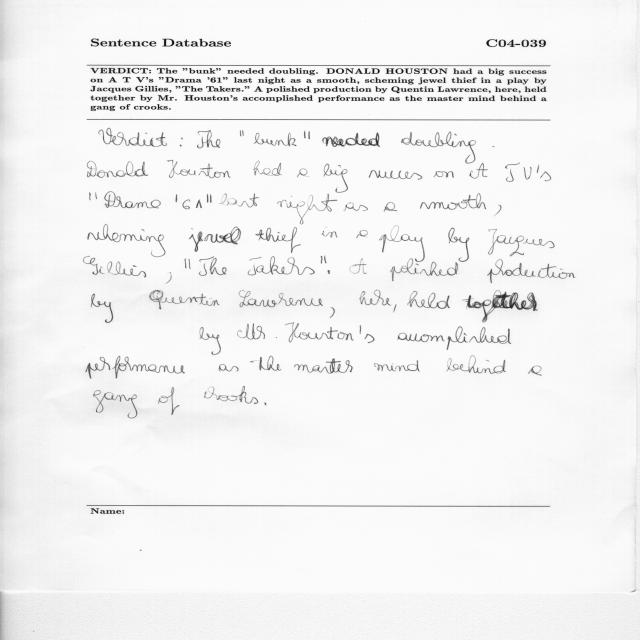word: (397, 326, 511, 350), (88, 224, 166, 257), (462, 290, 538, 323), (401, 132, 476, 164), (86, 356, 185, 379), (487, 259, 576, 283), (277, 194, 337, 225), (488, 229, 555, 256), (285, 323, 375, 343), (379, 225, 425, 262), (470, 162, 552, 182), (390, 258, 458, 281), (239, 291, 323, 308), (189, 226, 241, 252), (150, 290, 220, 309), (84, 256, 146, 277), (99, 128, 167, 147), (248, 256, 315, 275), (94, 390, 137, 419), (256, 227, 301, 253), (167, 160, 231, 178), (420, 193, 486, 210), (446, 356, 506, 374), (88, 161, 148, 178), (204, 386, 258, 404), (104, 192, 161, 209), (294, 358, 353, 374), (322, 132, 380, 147), (407, 291, 450, 309), (323, 163, 348, 193), (449, 228, 470, 262), (237, 323, 277, 340), (91, 293, 113, 323), (158, 387, 180, 415), (200, 327, 221, 355), (219, 194, 259, 208), (199, 256, 227, 276), (254, 133, 296, 146), (369, 170, 422, 180), (359, 290, 391, 306), (374, 360, 420, 371), (250, 356, 282, 371), (253, 161, 282, 176), (197, 130, 220, 148), (175, 195, 202, 210), (350, 258, 367, 274), (344, 203, 368, 211), (434, 171, 454, 178), (219, 364, 239, 371), (528, 366, 542, 376), (384, 202, 397, 212), (321, 231, 338, 238), (324, 256, 330, 274), (297, 169, 308, 178), (356, 230, 368, 238), (495, 205, 502, 216), (184, 259, 191, 270), (166, 273, 172, 284), (90, 193, 97, 201), (330, 307, 335, 318), (304, 131, 310, 139), (207, 194, 212, 203), (393, 305, 397, 313), (180, 138, 183, 147), (240, 131, 244, 137), (321, 256, 323, 264), (454, 133, 457, 136), (264, 403, 267, 405)
